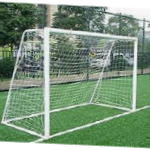goals: (2, 27, 139, 138)
